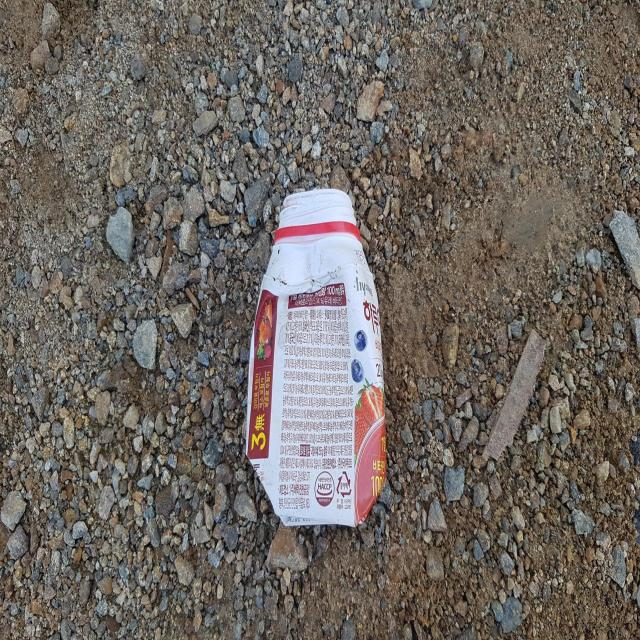paperpack: (246, 187, 387, 526)
